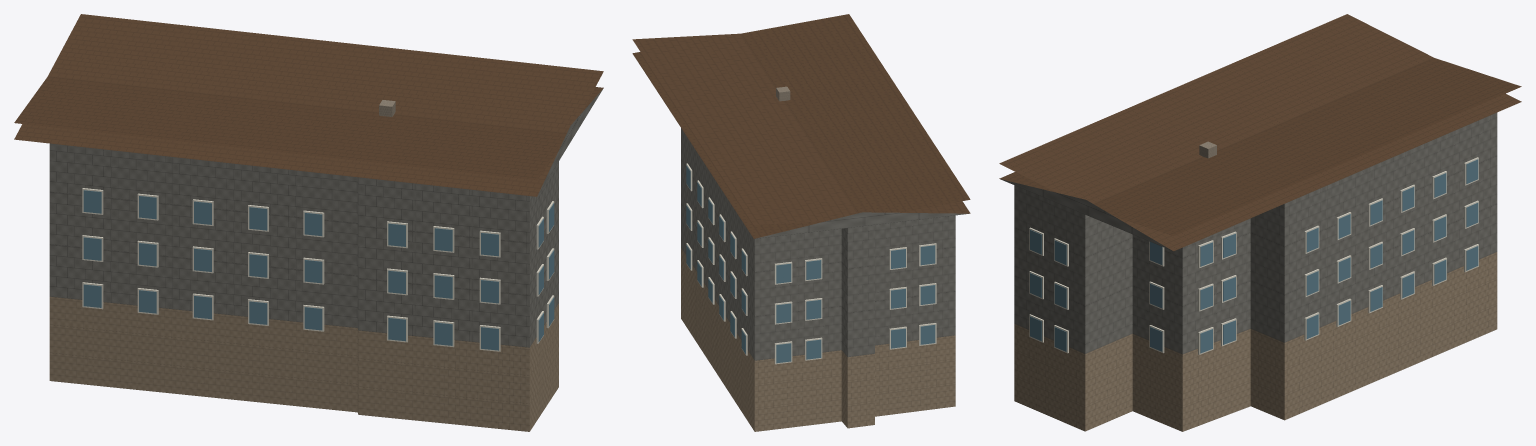
Rendered from core_0147.gltf.
3 views of the same model, side by side, from view 1: azimuth 30°, elevation 25°; view 2: azimuth 150°, elevation 25°; view 3: azimuth 270°, elevation 25° (orthographic). The views are drawn at different scales.
Parts seen in each view (by area): view 1: core_0147; view 2: core_0147; view 3: core_0147.
Boxes of the visible parts, left/top/right/bottom form: core_0147: left=14, top=14, right=603, bottom=431; core_0147: left=632, top=14, right=970, bottom=431; core_0147: left=999, top=14, right=1521, bottom=431.
Size of the model in its own units: 31.35 by 15.75 by 31.18.
Materials: 6 (6 with a texture image).
